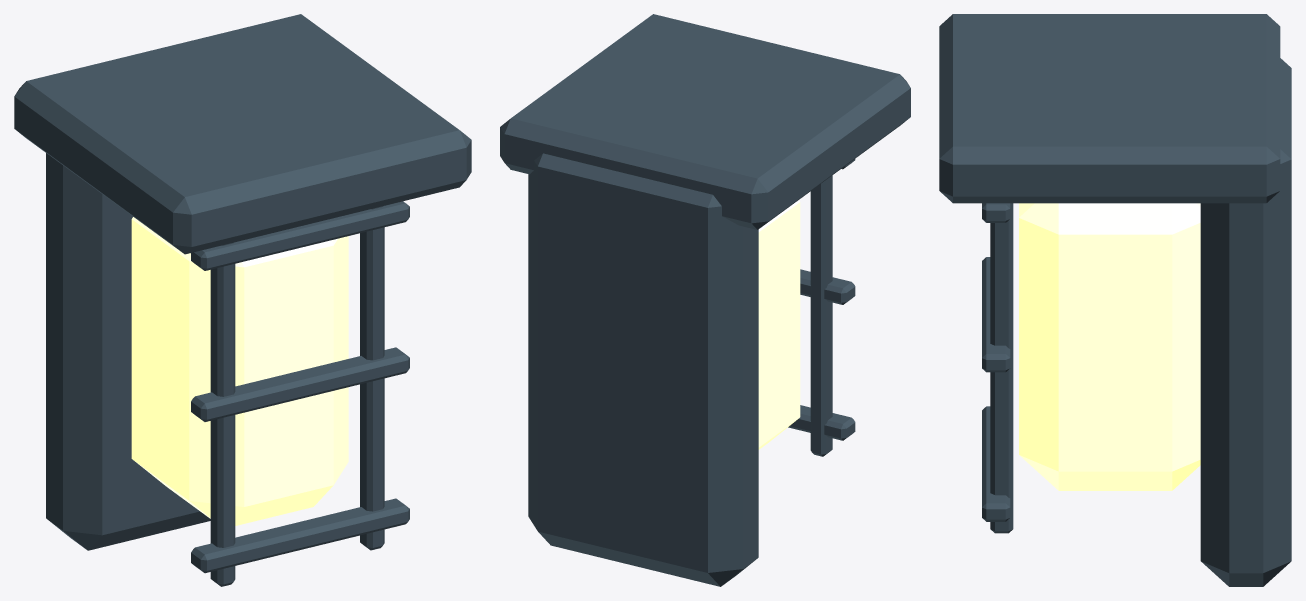
File: bulkhead_lamp.glb
3 views of the same model, side by side, from view 1: azimuth 30°, elevation 25°; view 2: azimuth 150°, elevation 25°; view 3: azimuth 270°, elevation 25° (orthographic). The views are drawn at different scales.
Visible parts, largest first — view 1: bulkhead_lamp; view 2: bulkhead_lamp; view 3: bulkhead_lamp.
Part boxes in pixels (bbox=[...]): bulkhead_lamp: bbox=[14, 14, 471, 586]; bulkhead_lamp: bbox=[500, 14, 910, 586]; bulkhead_lamp: bbox=[939, 14, 1291, 586].
Size of the model in its own units: 0.3 by 0.4475 by 0.31.
